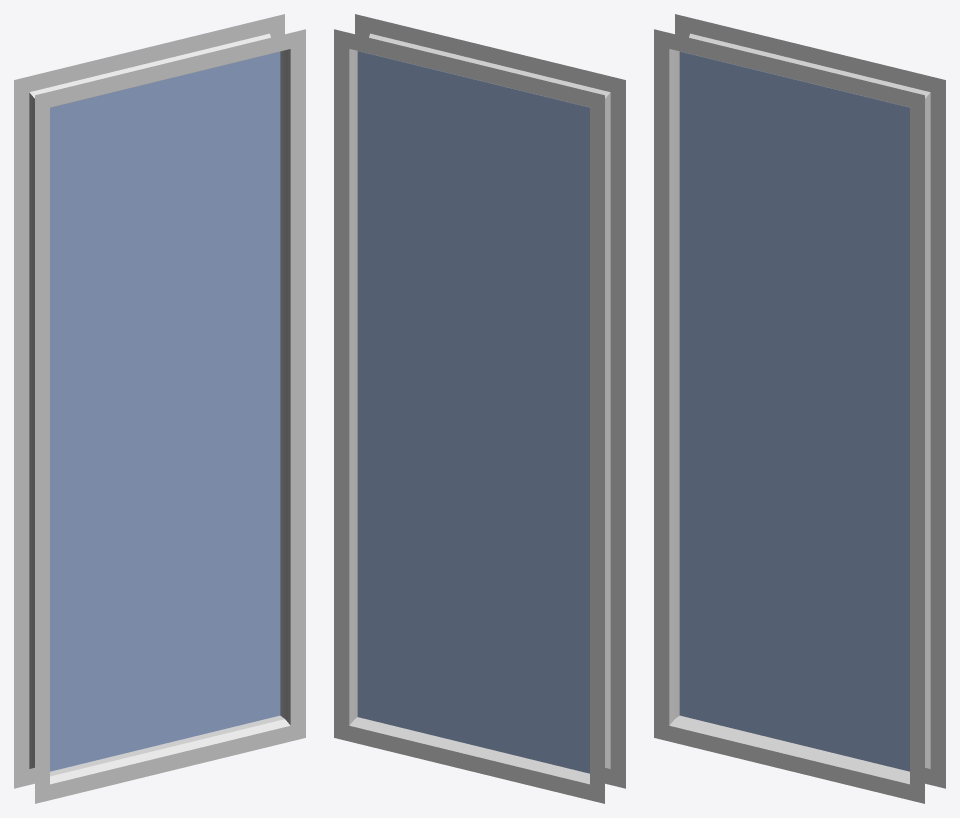
File: rotated25_2.fbx
The picture shows the model from 3 angles, left to right: view 1: azimuth 30°, elevation 25°; view 2: azimuth 150°, elevation 25°; view 3: azimuth 330°, elevation 25°; orthographic projection.
Visible parts, largest first — view 1: Cylinder_2_2_5; view 2: Cylinder_2_2_5; view 3: Cylinder_2_2_5.
Part boxes in pixels (x1,y1,x2,y2): Cylinder_2_2_5: (14,14,305,803); Cylinder_2_2_5: (334,14,625,803); Cylinder_2_2_5: (654,14,945,803).
Size of the model in its own units: 100 by 250 by 13.31.
